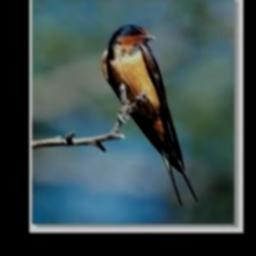Swallow: (101, 24, 198, 205)
